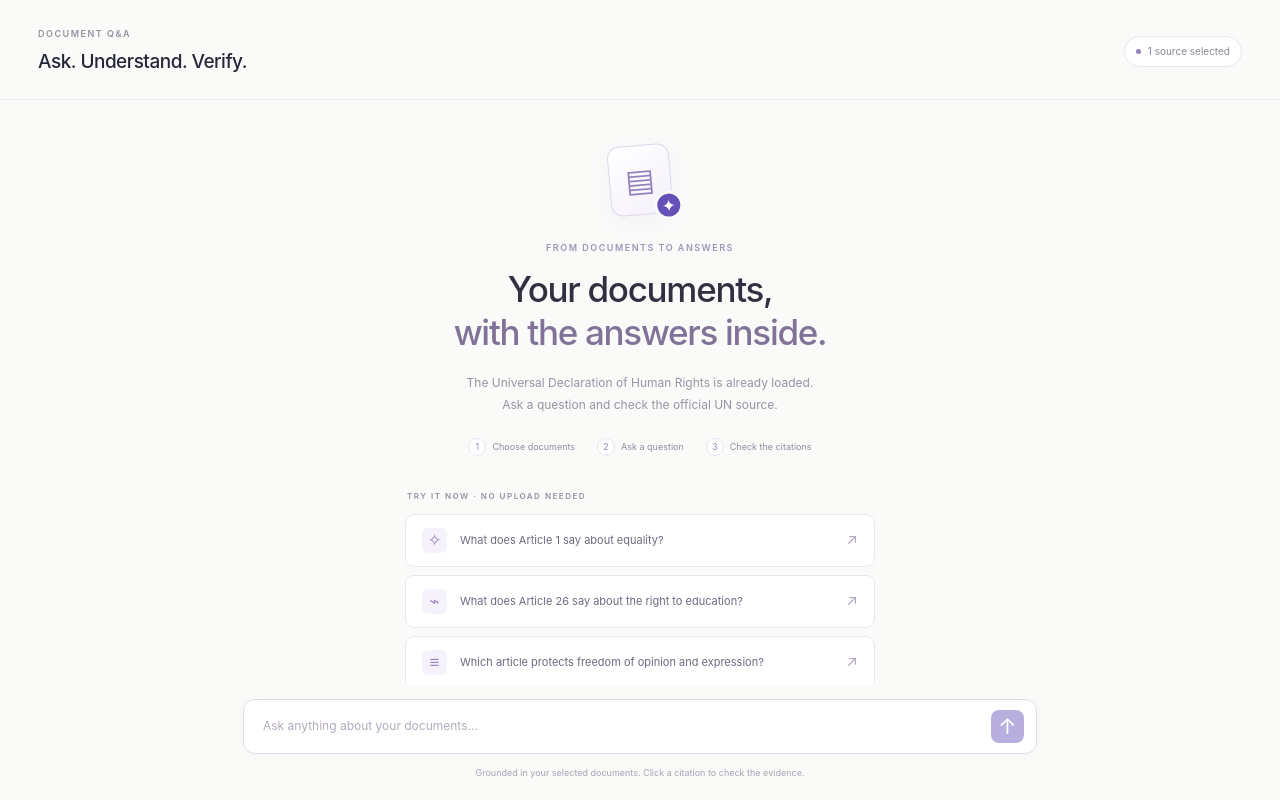
Test: offers clickable document questions after a greeting without arbitrary source cards
Type "hi" into the text box at (622,726), box [263,711,981,741]
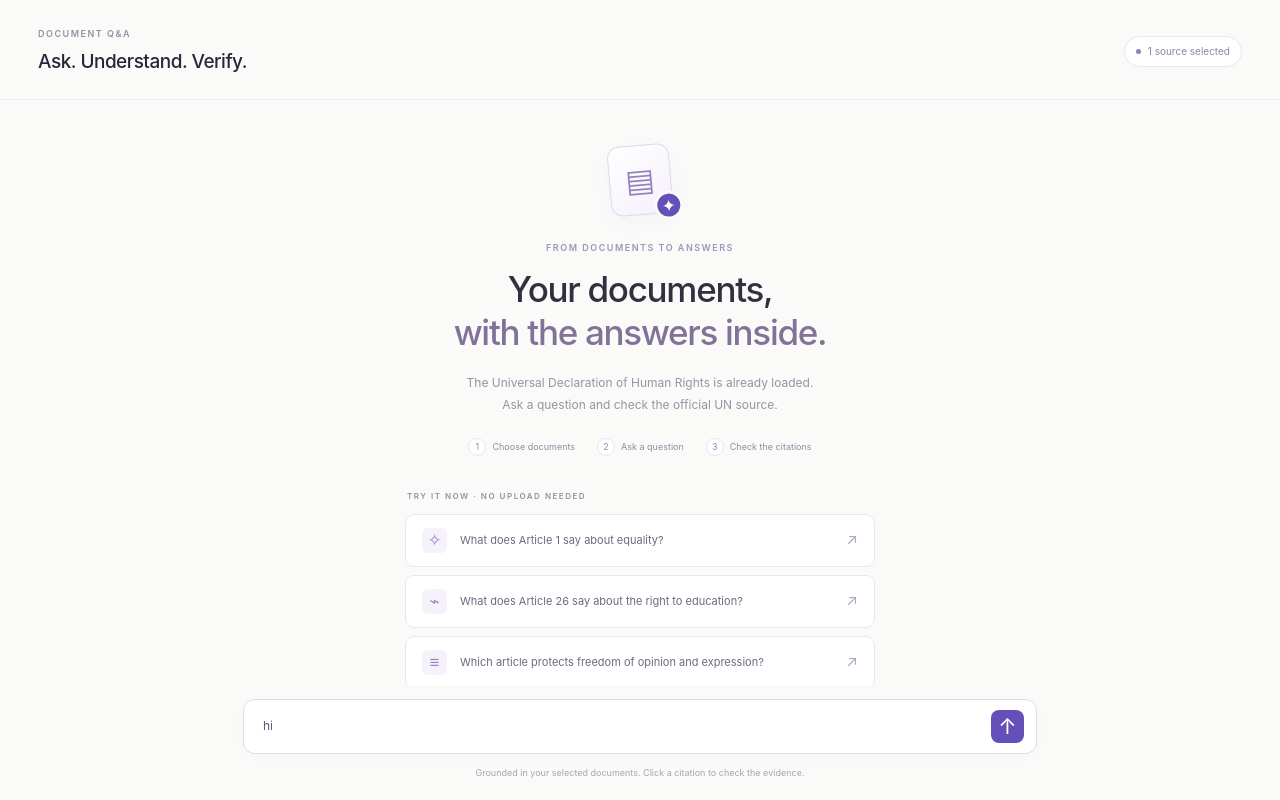
Click the button named "Send question" at (1008,726), box [991,710,1024,742]
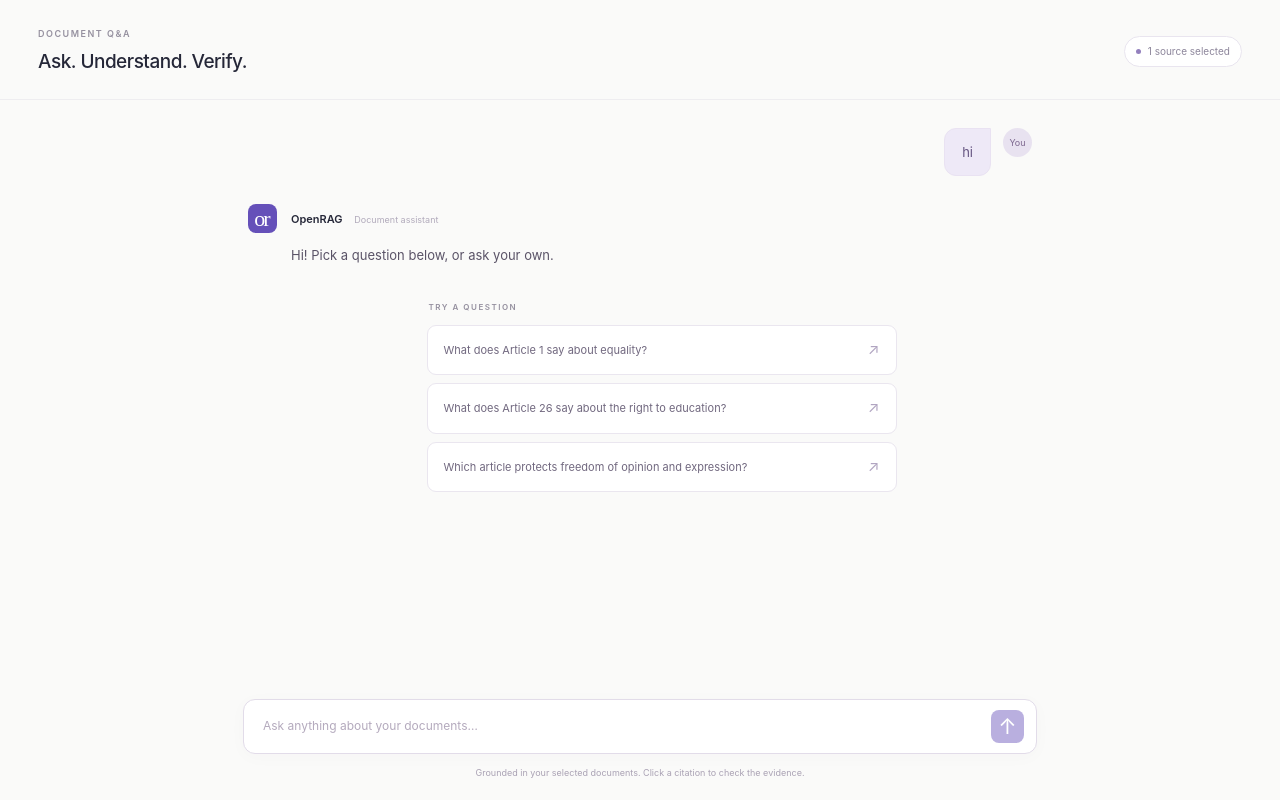
Click the button "What does Article 26 say about the right to education?" at (662,408), box [426,383,896,434]
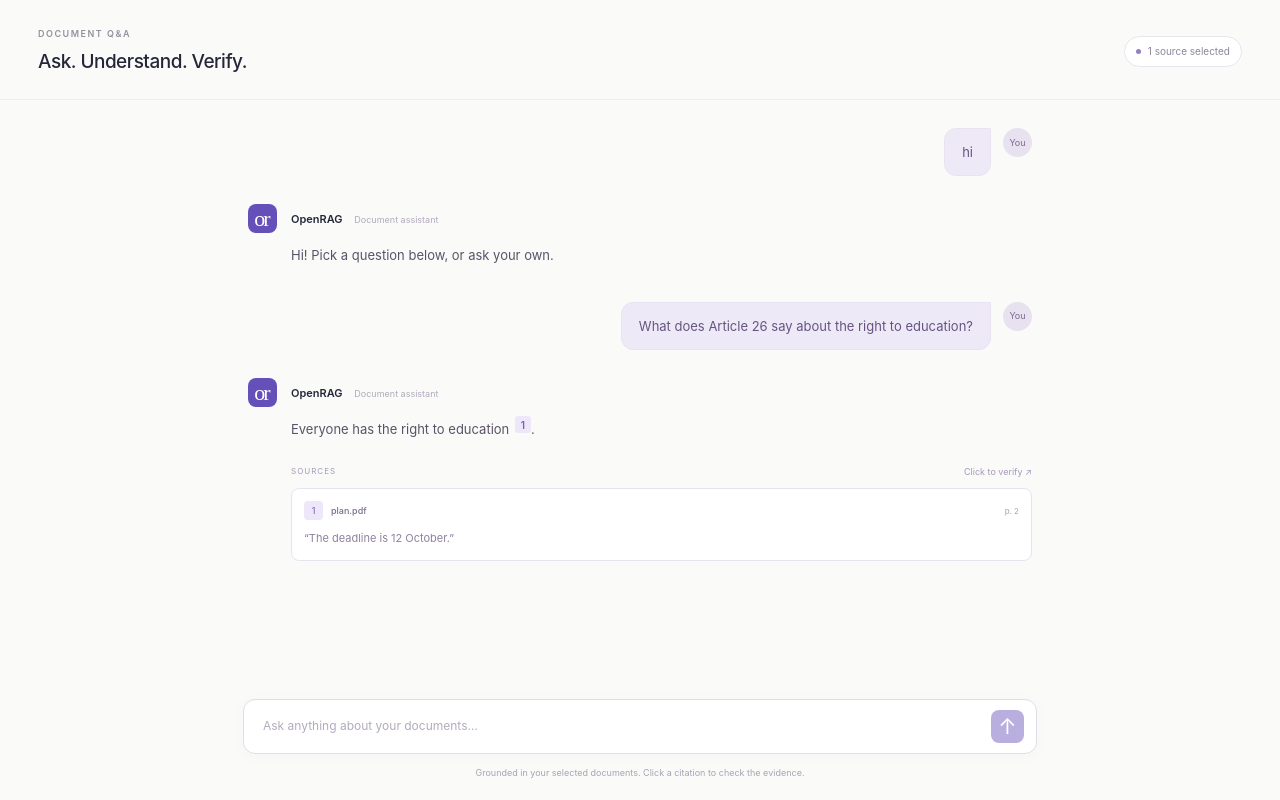
Expected: the text "What does Article 26 say about the right to education?" is shown, [621,302,991,350]
Result: the button named "Citation 1" is shown at [515,416,531,433]
